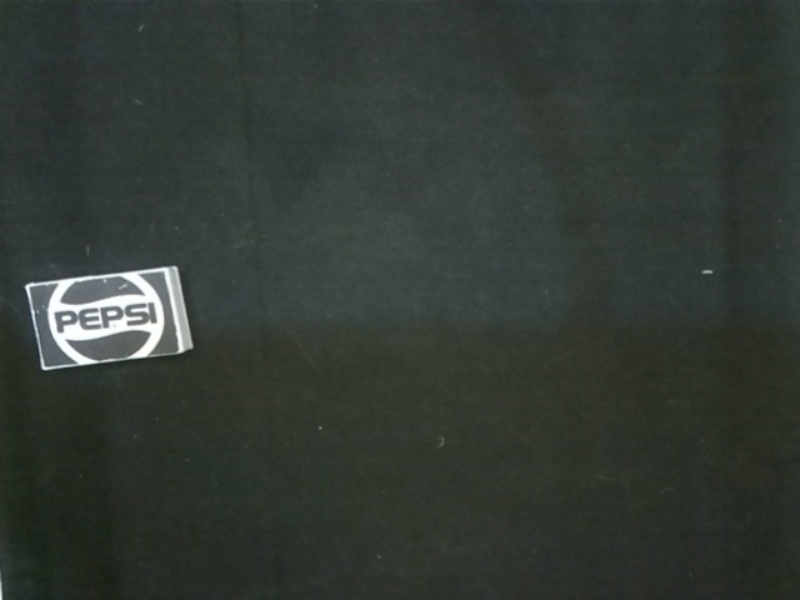pepsi: (24, 266, 198, 369)
